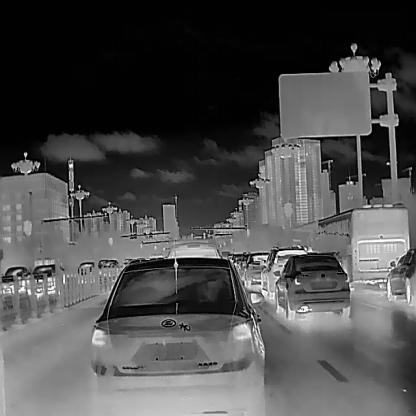bus: (318, 203, 410, 289)
car: (87, 255, 266, 415), (272, 253, 350, 321), (260, 245, 309, 299), (385, 248, 415, 307), (31, 262, 67, 294), (242, 250, 269, 290), (0, 265, 32, 296), (77, 261, 100, 276), (238, 255, 250, 280), (104, 260, 119, 276), (122, 258, 132, 268)
